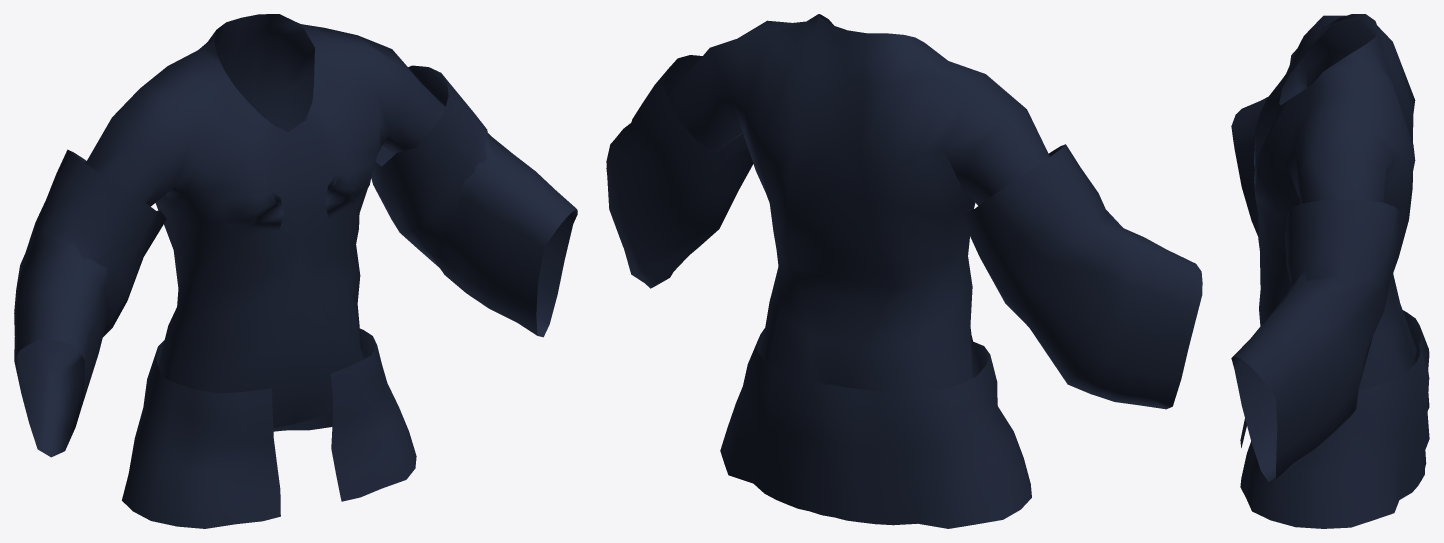
File: haori.glb
The picture shows the model from 3 angles, left to right: view 1: azimuth 30°, elevation 25°; view 2: azimuth 150°, elevation 25°; view 3: azimuth 270°, elevation 25°; orthographic projection. The views are drawn at different scales.
Parts seen in each view (by area): view 1: haori; view 2: haori; view 3: haori.
Part boxes in pixels (left/top/right/bottom): haori: left=14, top=14, right=577, bottom=528; haori: left=606, top=14, right=1202, bottom=528; haori: left=1231, top=14, right=1429, bottom=528.
Bounding box in the file's own units: 1.03 × 0.7731 × 0.3195.
